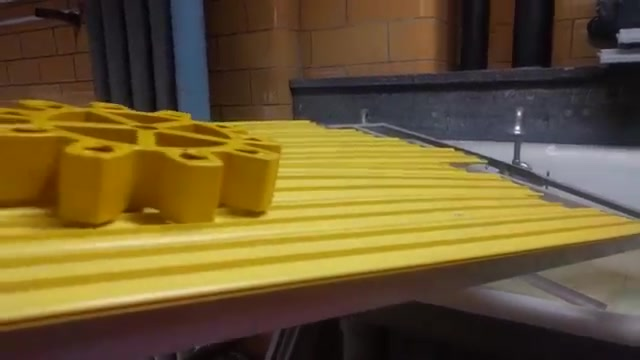gear: (1, 90, 284, 235)
